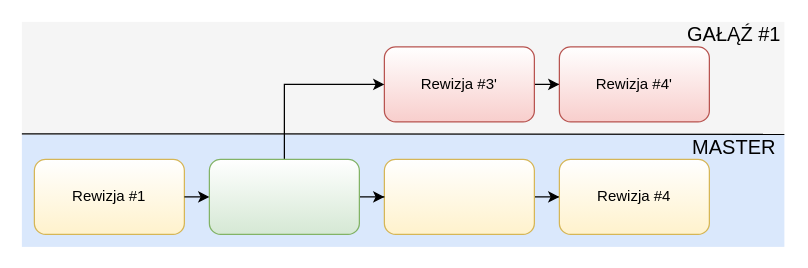
Some shapes in this 808 by 268 pixel diagram are drawn without their labels. Here are the shapes that lost their labels. From the top down, the centre of each, then its label:
At (x=283, y=196): "Rewizja #2 (wzorcowa)".
At (x=458, y=196): "Rewizja #3".
